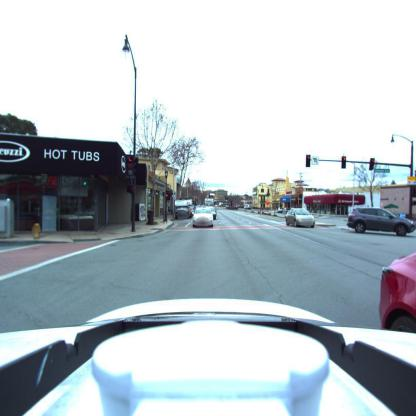car: (346, 207, 416, 237), (286, 208, 314, 228), (193, 207, 215, 228), (174, 199, 193, 219)
